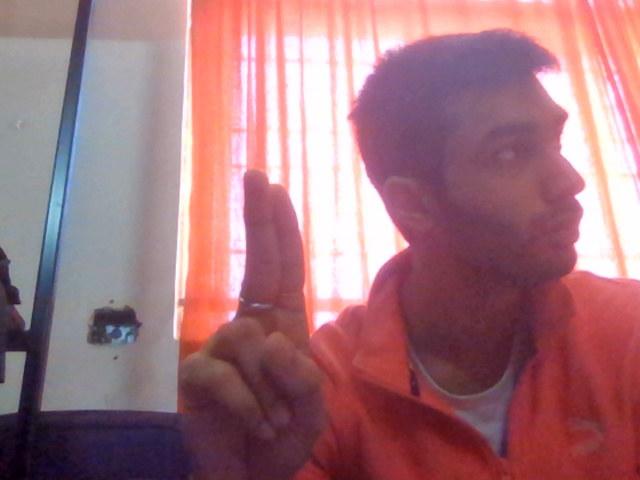U: (146, 141, 399, 480)
